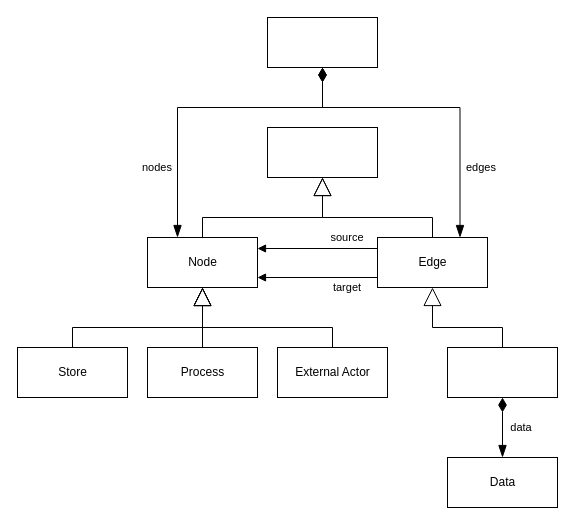
Some shapes in this 575 by 525 pixel diagram are drawn without their labels. The shapes that lost their labels are listed below. From the top down, each one's box as (x1, y1, x2, y2) in pixels, then its label:
(266, 16, 378, 68): Data Flow Diagram
(266, 126, 378, 178): Component
(446, 346, 558, 398): Data Flow
